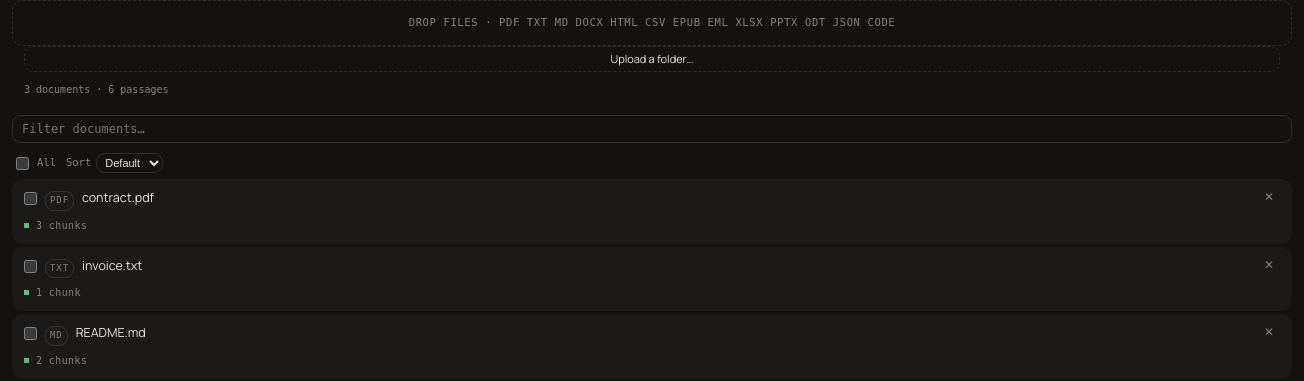
CorpusPanel › filters the document list by a substring match, case-insensitively
Type "read" into the search field with test id "corpus-panel-search" at (652, 129), box [12,115,1292,143]
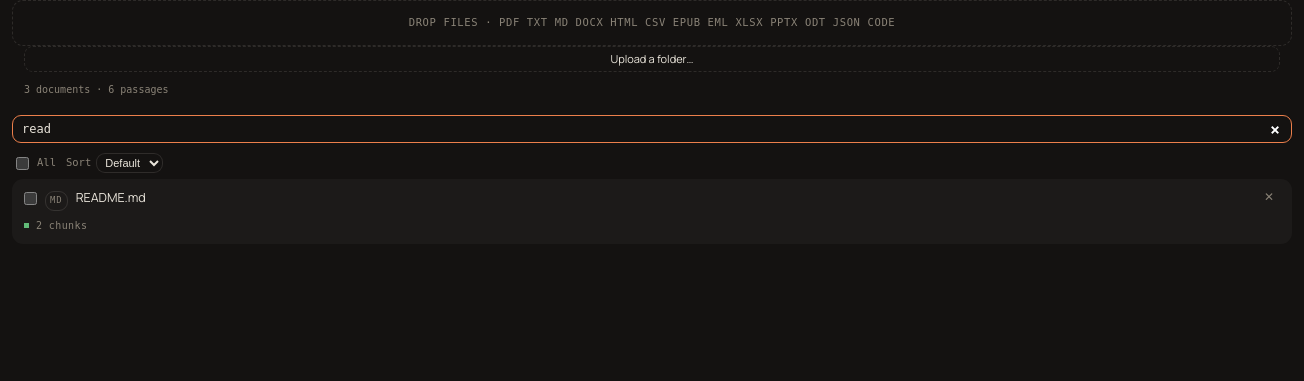
Expected: the element with test id "corpus-panel-item" shows "README.md", [76,189,146,206]
Expected: the number of elements with test id "corpus-panel-item" is 1, [12,179,1292,244]
